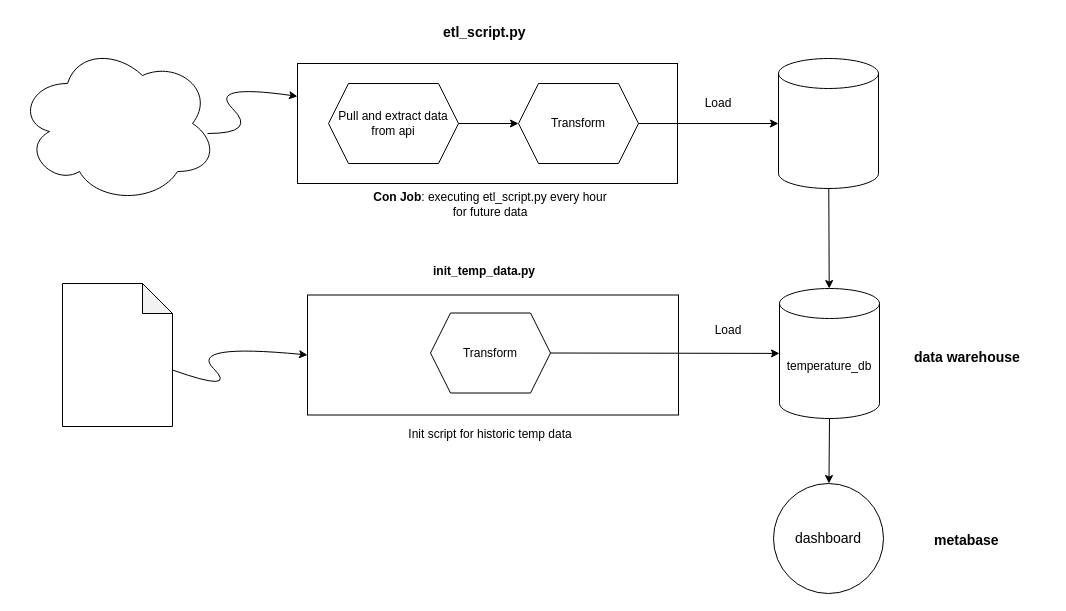
This 1066x611 diagram has some shape labels left out. Here are the shapes that lost their labels. From the top down, the box of each, then its label:
(16, 42, 218, 204): openweathermap.org
(778, 58, 878, 188): measurement_db
(62, 282, 172, 426): temperature.csv
